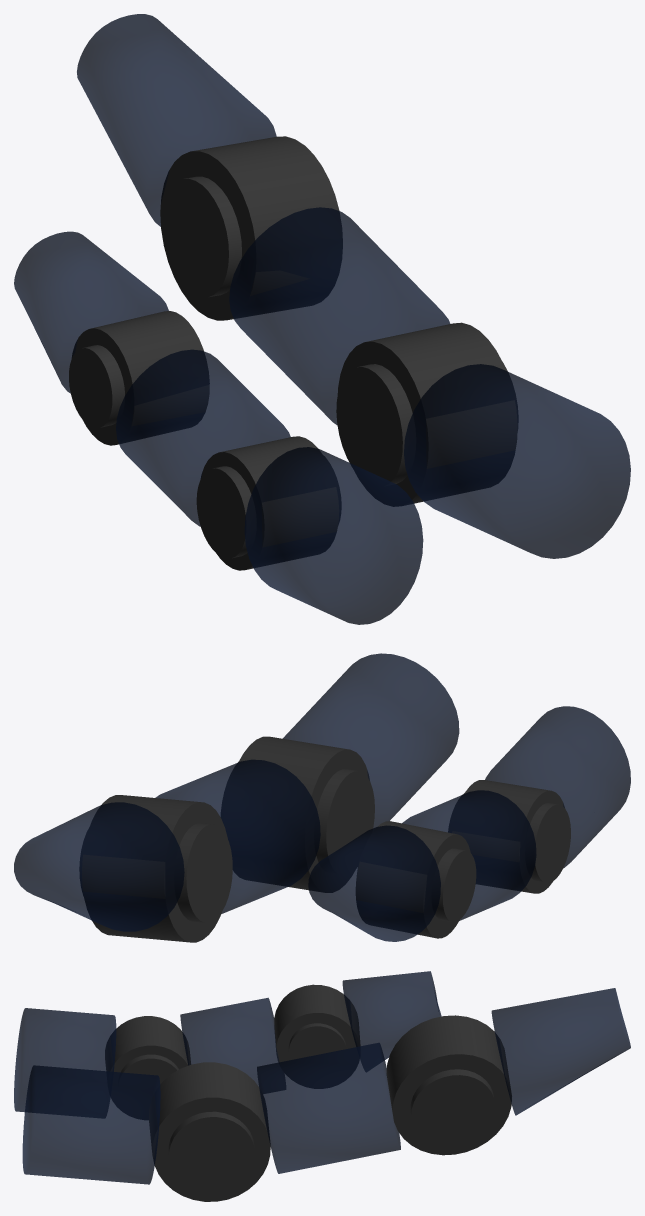
File: right ring and pinky.fbx
The picture shows the model from 3 angles, top to bottom: view 1: azimuth 30°, elevation 25°; view 2: azimuth 150°, elevation 25°; view 3: azimuth 270°, elevation 25°; orthographic projection. The views are drawn at different scales.
Parts seen in each view (by area): view 1: Right_Ring Body 1, Right_Ring Body 2, Right_Pinky Body 1, Right_Ring Joint 2, Right_Ring Tip, Right_Ring Joint 1, Right_Pinky Body 2, Right_Pinky Tip, Right_Pinky Joint 2, Right_Pinky Joint 1, Right_Ring Joint 1.001, Right_Ring Joint 2.001 (+2 smaller); view 2: Right_Ring Tip, Right_Ring Body 1, Right_Ring Joint 2, Right_Ring Joint 1, Right_Ring Body 2, Right_Pinky Body 1, Right_Pinky Tip, Right_Pinky Joint 2, Right_Pinky Body 2, Right_Pinky Joint 1, Right_Ring Joint 1.001, Right_Ring Joint 2.001 (+2 smaller); view 3: Right_Ring Body 1, Right_Ring Body 2, Right_Ring Tip, Right_Pinky Body 1, Right_Ring Joint 2, Right_Ring Joint 1, Right_Pinky Body 2, Right_Pinky Tip, Right_Ring Joint 1.001, Right_Ring Joint 2.001, Right_Pinky Joint 2, Right_Pinky Joint 1 (+2 smaller).
Boxes of the visible parts, x1,y1,x2,y2 form: Right_Ring Body 1: (404, 364, 630, 558); Right_Ring Body 2: (229, 207, 450, 425); Right_Pinky Body 1: (244, 447, 423, 624); Right_Ring Joint 2: (160, 136, 342, 320); Right_Ring Tip: (77, 14, 276, 226); Right_Ring Joint 1: (337, 322, 517, 506); Right_Pinky Body 2: (116, 349, 290, 526); Right_Pinky Tip: (14, 231, 168, 393); Right_Pinky Joint 2: (72, 311, 209, 445); Right_Pinky Joint 1: (200, 436, 339, 570); Right_Ring Joint 1.001: (336, 363, 517, 486); Right_Ring Joint 2.001: (161, 176, 241, 297); Right_Ring Tip: (14, 802, 184, 931); Right_Ring Body 1: (283, 653, 459, 830); Right_Ring Joint 2: (82, 795, 227, 942); Right_Ring Joint 1: (224, 736, 369, 892); Right_Ring Body 2: (155, 759, 320, 913); Right_Pinky Body 1: (485, 706, 630, 868); Right_Pinky Tip: (308, 825, 440, 941); Right_Pinky Joint 2: (355, 821, 470, 938); Right_Pinky Body 2: (402, 790, 536, 920); Right_Pinky Joint 1: (452, 780, 564, 893); Right_Ring Joint 1.001: (221, 761, 374, 874); Right_Ring Joint 2.001: (80, 823, 232, 922); Right_Ring Body 1: (22, 1065, 160, 1184); Right_Ring Body 2: (257, 1042, 400, 1173); Right_Ring Tip: (491, 988, 630, 1115); Right_Pinky Body 1: (14, 1008, 116, 1117); Right_Ring Joint 2: (386, 1015, 511, 1155); Right_Ring Joint 1: (149, 1062, 270, 1201); Right_Pinky Body 2: (180, 997, 285, 1093); Right_Pinky Tip: (342, 971, 441, 1071); Right_Ring Joint 1.001: (168, 1111, 254, 1192); Right_Ring Joint 2.001: (410, 1069, 494, 1145); Right_Pinky Joint 2: (274, 984, 360, 1088); Right_Pinky Joint 1: (105, 1016, 190, 1119).
Bounding box in the file's own units: 63.54 × 47.42 × 140.
